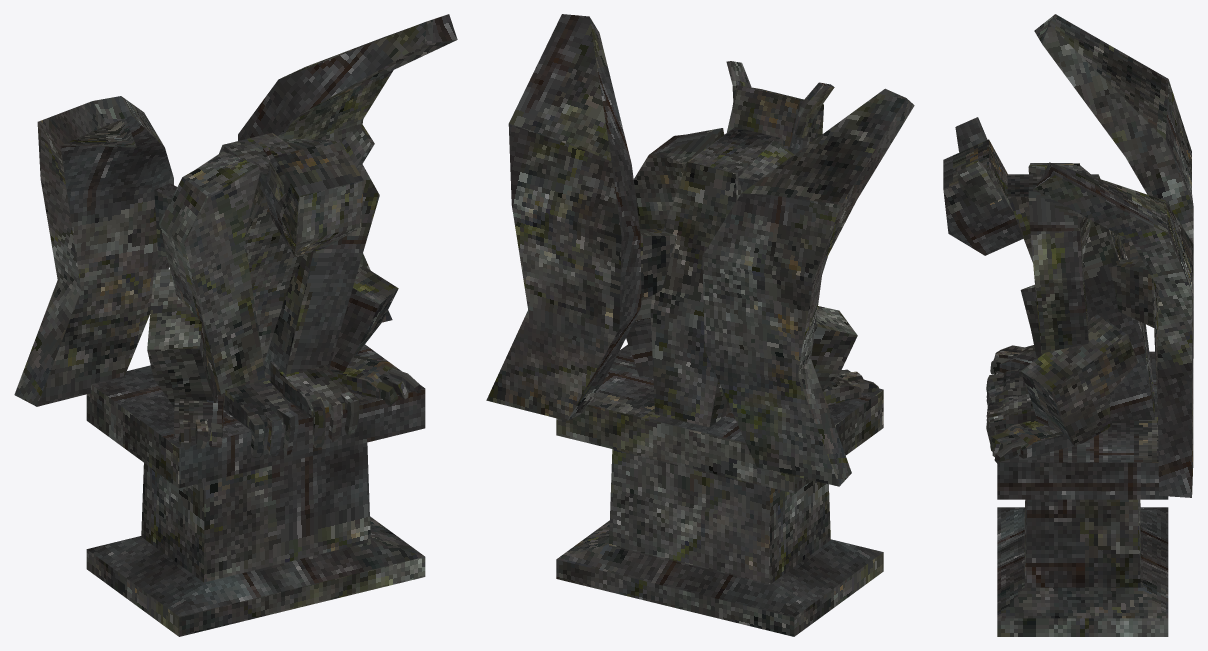
File: Gargoyle_Var_1.gltf
3 views of the same model, side by side, from view 1: azimuth 30°, elevation 25°; view 2: azimuth 150°, elevation 25°; view 3: azimuth 270°, elevation 25° (orthographic). The views are drawn at different scales.
Parts seen in each view (by area): view 1: Gargoyle_Var_1; view 2: Gargoyle_Var_1; view 3: Gargoyle_Var_1.
Boxes of the visible parts, x1=… form: Gargoyle_Var_1: x1=14, y1=14, x2=457, y2=636; Gargoyle_Var_1: x1=486, y1=14, x2=914, y2=636; Gargoyle_Var_1: x1=943, y1=14, x2=1193, y2=636.
Size of the model in its own units: 3.63 by 5.01 by 2.33.
Materials: 1 (1 with a texture image).
